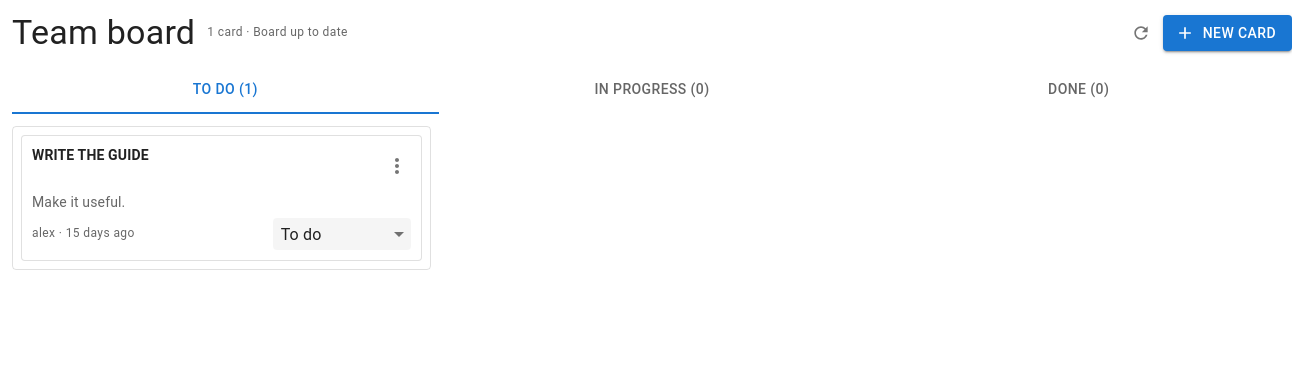
Test: shared kanban board › follows the newer polled version after a delayed move response and failed refresh
Check: the element that starts with "Write the guide" is shown, box top-left (21, 135), bottom-right (422, 261)
Select "In progress" in the dropdown named "Status for Write the guide": (342, 234) top-left (281, 218), bottom-right (403, 250)
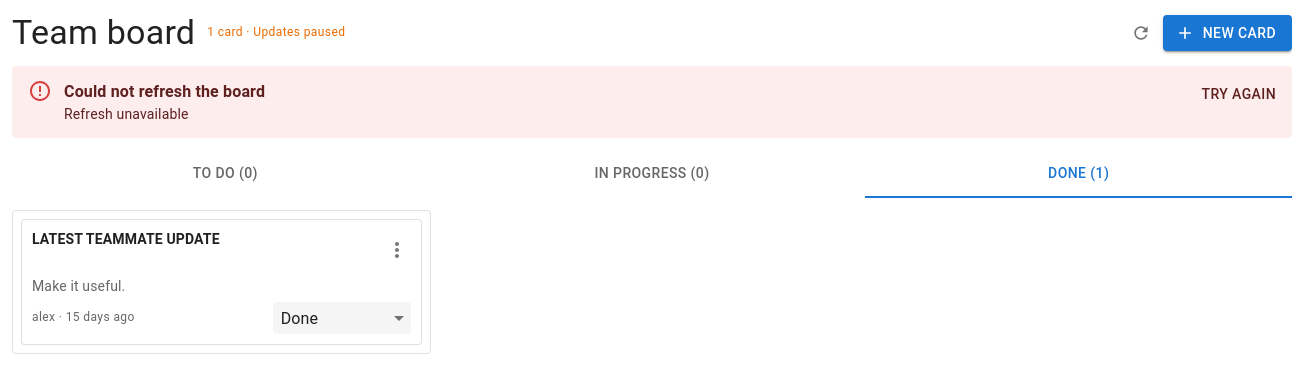
Check: the tab "Done (1)" is shown, box top-left (865, 150), bottom-right (1292, 198)
Check: the element "Latest teammate update" is shown, box top-left (21, 219), bottom-right (422, 345)
Check: the dropdown named "Status for Latest teammate update" shows "Done", box top-left (281, 302), bottom-right (403, 334)
